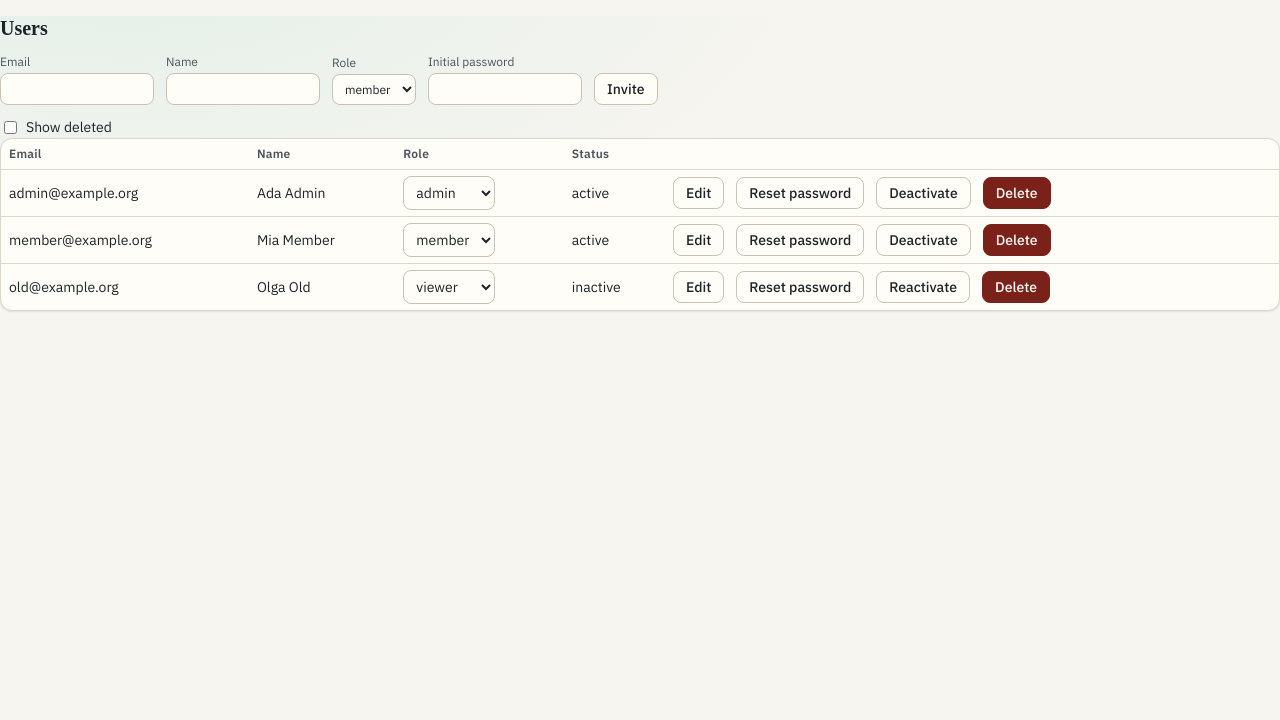
Test: UsersPage › resets a password, refusing a short one first
Click the button with aria-label "Reset password of member@example.org": (800, 240) [736,224,864,256]
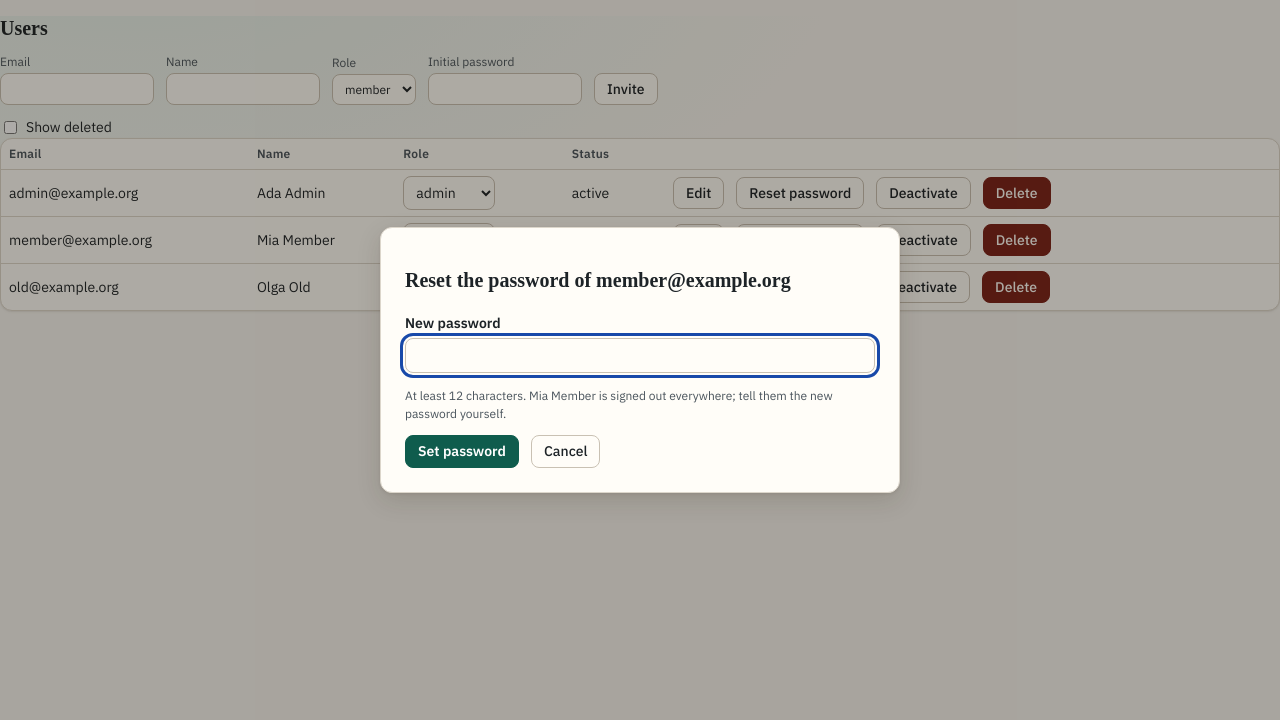
In the password field labelled "New password": (640, 356) [405,338,875,373], type "short"
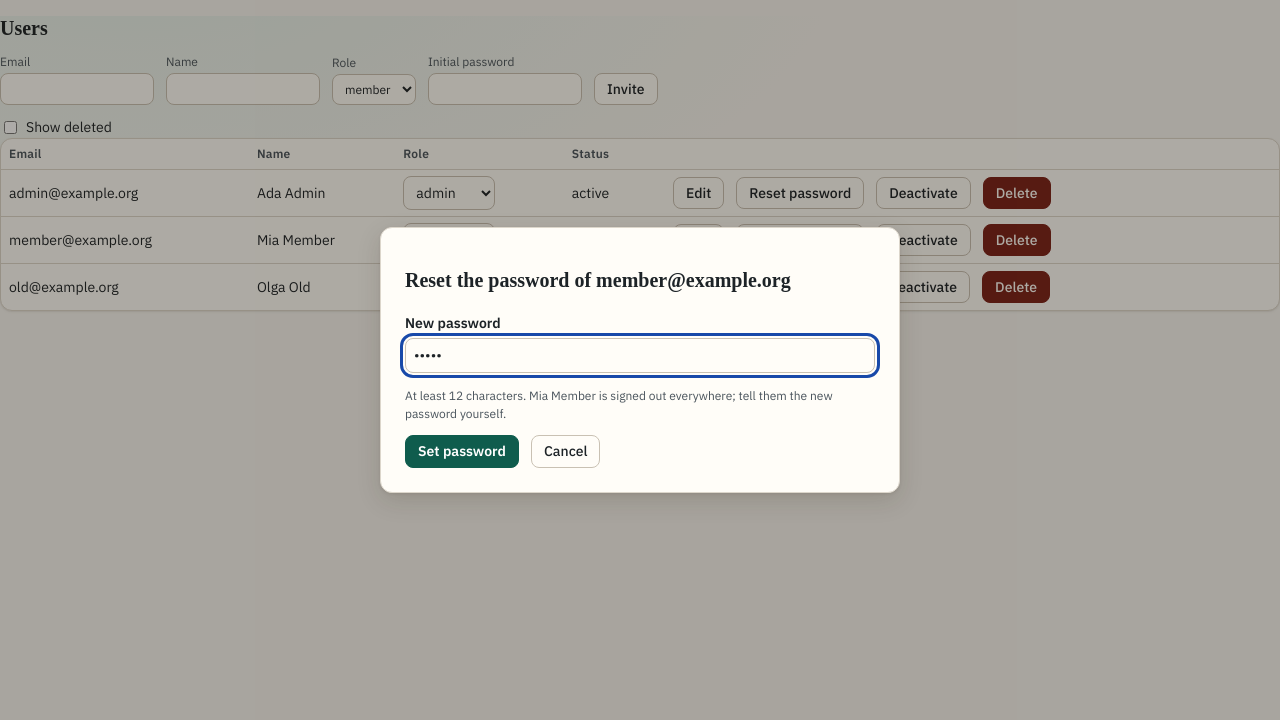
Click the button "Set password": (462, 452) [405,435,519,468]
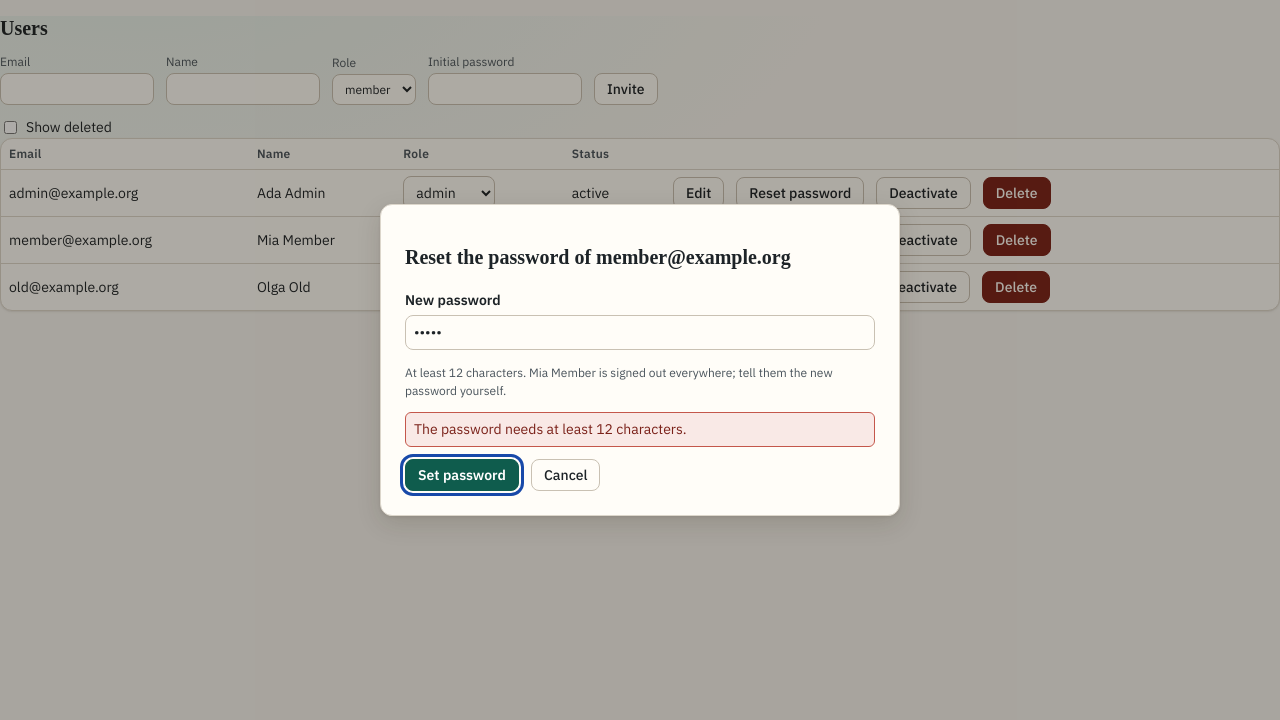
Expected: the message shows "at least 12", [414,420,687,438]
In the password field labelled "New password": (640, 332) [405,315,875,350], type "a-long-enough-password"
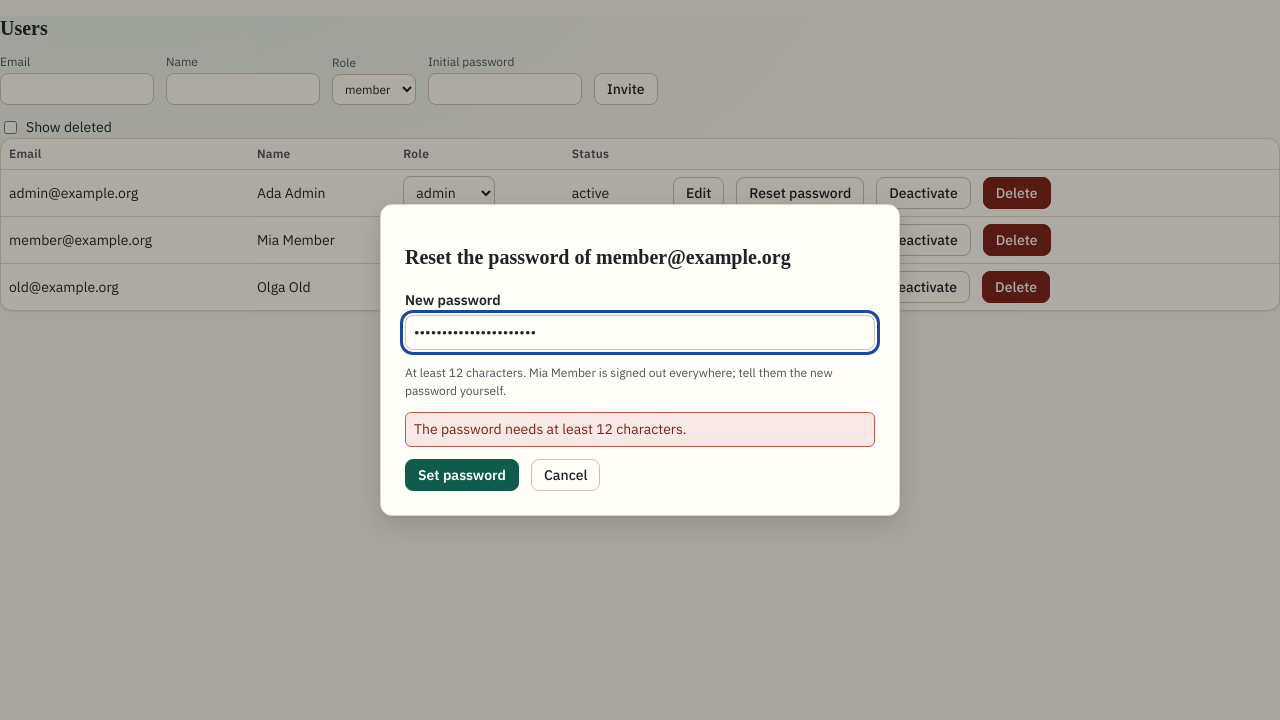
Click the button "Set password": (462, 475) [405,459,519,491]
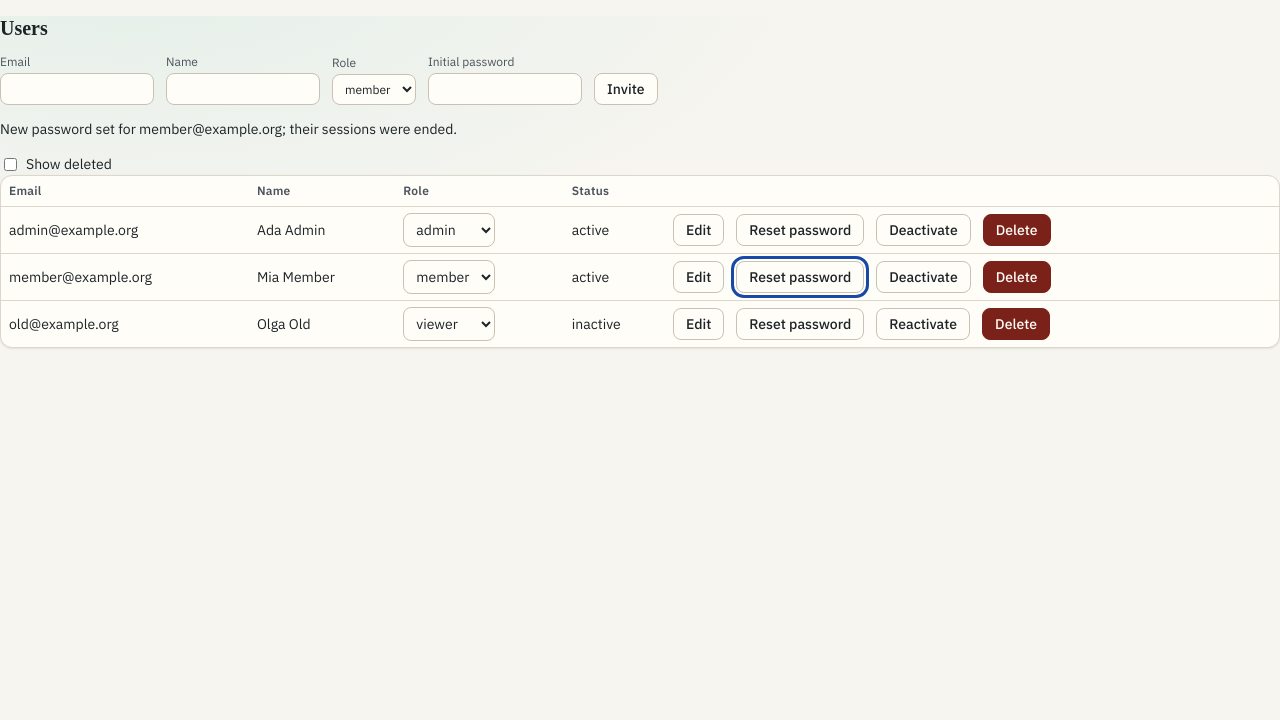
Expected: the text "New password set for member@example.org; their sessions were ended." is shown, [0,120,457,138]
